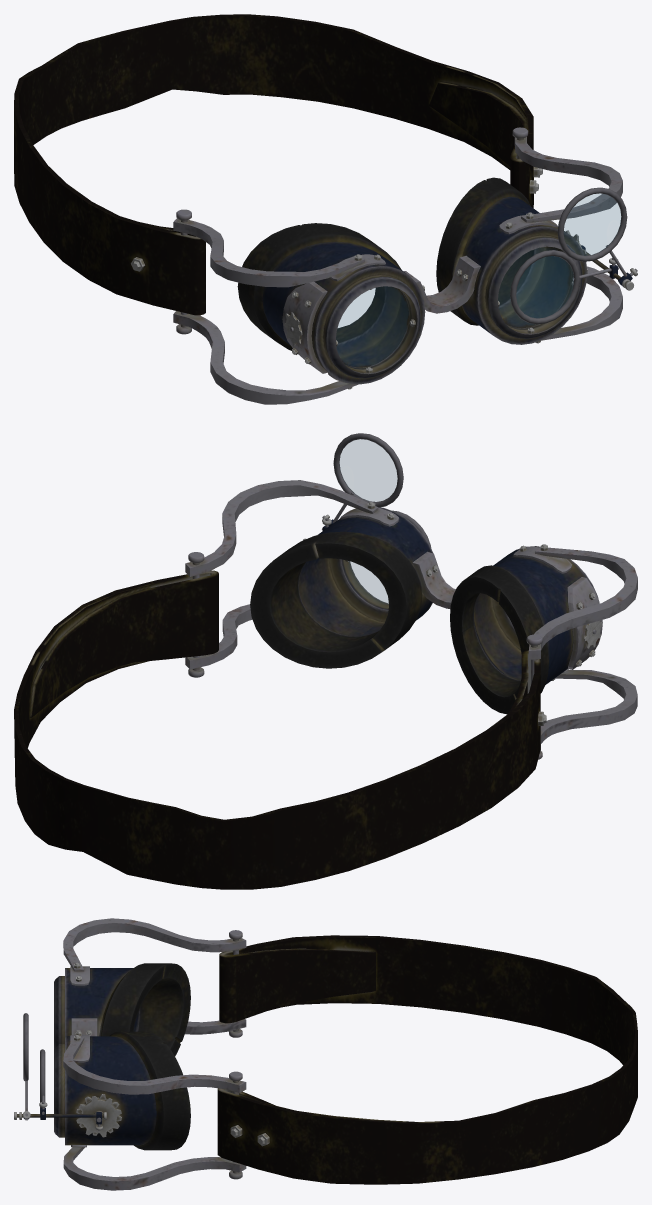
3 views of the same model, one above another, from view 1: azimuth 30°, elevation 25°; view 2: azimuth 150°, elevation 25°; view 3: azimuth 270°, elevation 25° (orthographic). The views are drawn at different scales.
Parts seen in each view (by area): view 1: glass_01_low, glass_02_low, glass_04_low, glass_03_low; view 2: glass_01_low, glass_02_low, glass_04_low, glass_03_low; view 3: glass_01_low, glass_02_low, glass_03_low.
Part boxes in pixels (x1,y1,x2,y2): glass_01_low: (14,14,637,384); glass_02_low: (173,127,637,404); glass_04_low: (336,194,632,368); glass_03_low: (131,138,633,389); glass_01_low: (14,433,602,889); glass_02_low: (185,480,637,759); glass_04_low: (323,439,397,608); glass_03_low: (192,502,596,725); glass_01_low: (17,935,637,1184); glass_02_low: (25,918,246,1190); glass_03_low: (14,939,269,1173).
Bounding box in the file's own units: 239 × 89.29 × 343.
Materials: 2 (2 with a texture image).
